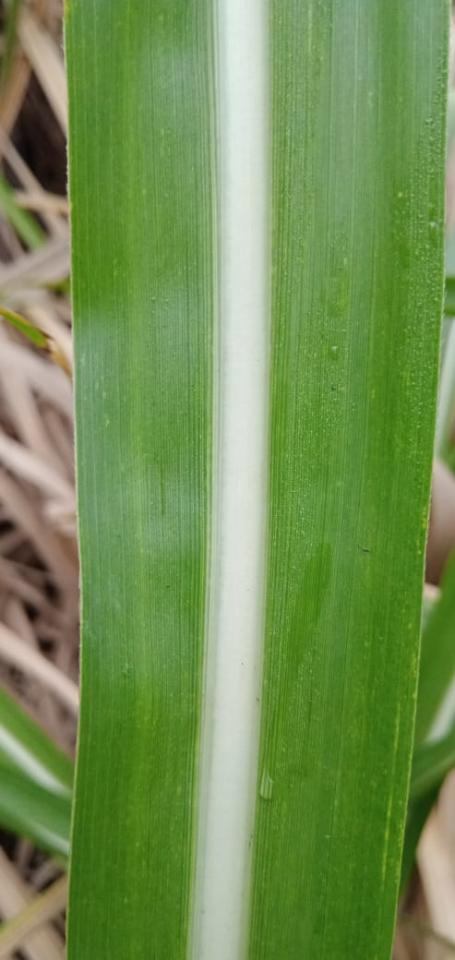Healthy: (65, 0, 451, 959)
